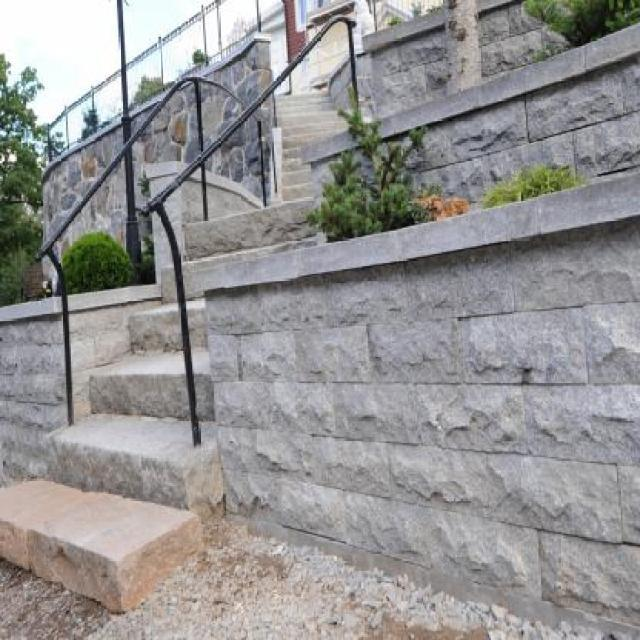stair: (0, 197, 318, 614), (272, 89, 376, 203)
